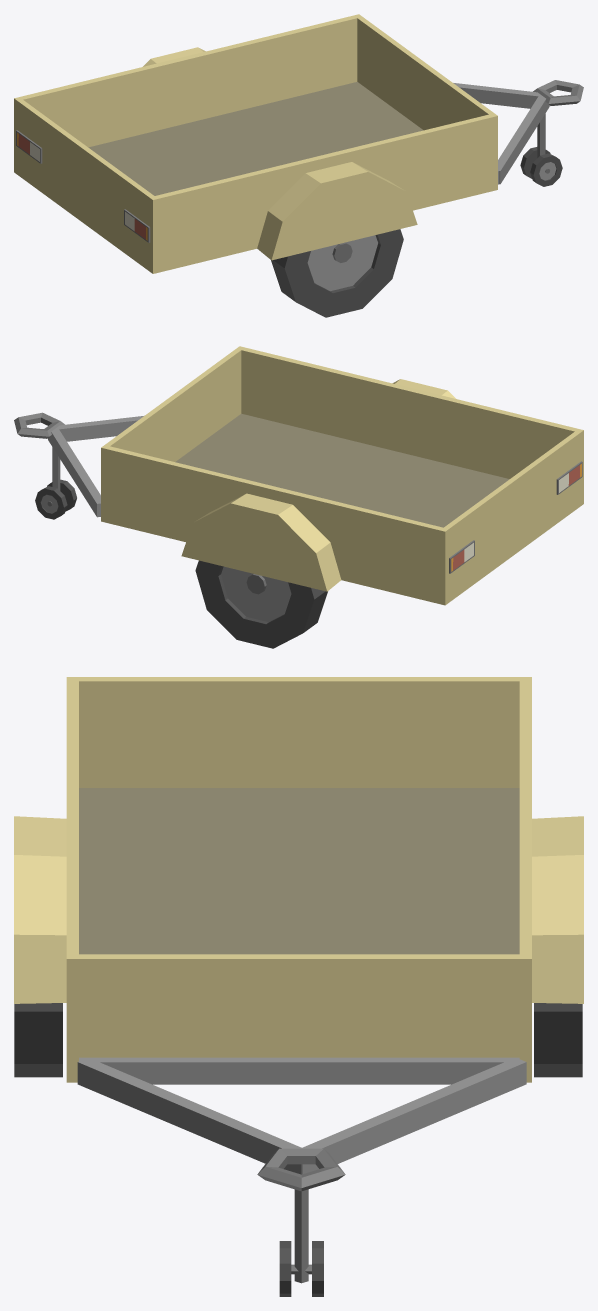
Rendered from kar11.fbx.
3 renders of one model, top to bottom at view 1: azimuth 30°, elevation 25°; view 2: azimuth 150°, elevation 25°; view 3: azimuth 270°, elevation 25°, orthographic. The views are drawn at different scales.
Visible parts, largest first — view 1: Cylinder_10, Cylinder, Cylinder_3; view 2: Cylinder_10, Cylinder_3_2, Cylinder_8; view 3: Cylinder_10, Cylinder_3_2, Cylinder.
Part boxes in pixels (x1,y1,x2,y2): Cylinder_10: [14, 14, 583, 273]; Cylinder: [271, 229, 403, 317]; Cylinder_3: [530, 153, 562, 186]; Cylinder_10: [14, 346, 583, 605]; Cylinder_3_2: [195, 560, 327, 648]; Cylinder_8: [35, 486, 67, 519]; Cylinder_10: [14, 677, 583, 1283]; Cylinder_3_2: [534, 1003, 582, 1077]; Cylinder: [14, 1003, 62, 1077].
Size of the model in its own units: 456 by 125 by 267.
